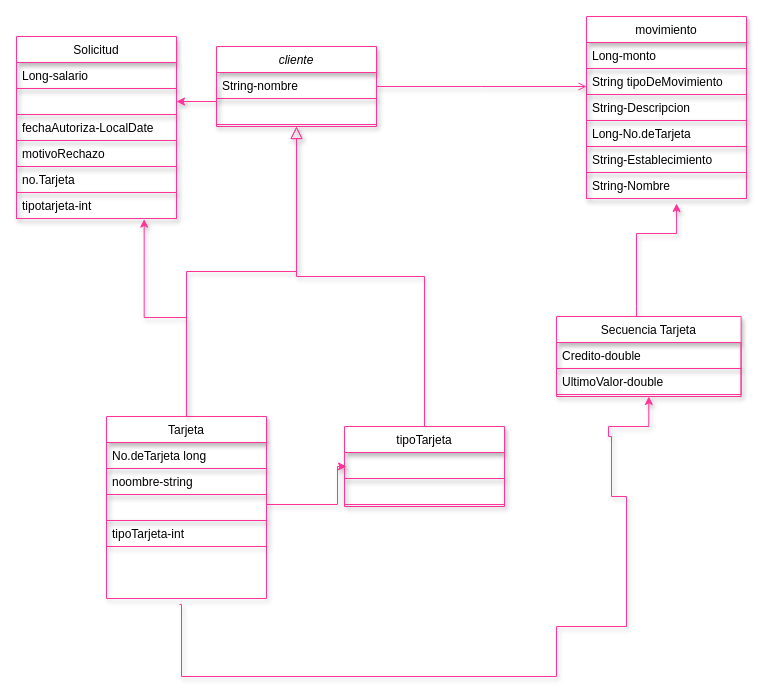
The diagram is 763 pixels wide and 693 high, and some of its shapes have lost their labels. Here are the shapes that lost their labels. From the top down, the centre of each, then its label:
At (x=97, y=103): "id.Solicitud".
At (x=297, y=113): "String-direccion".
At (x=425, y=467): "NombreDeTarjeta-String".
At (x=187, y=509): "dinero-long".
At (x=425, y=493): "Interes-double".
